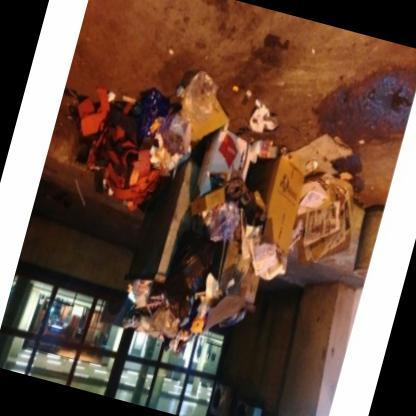Garbage: (60, 38, 236, 222), (266, 148, 376, 280), (121, 278, 248, 366), (233, 147, 315, 283), (185, 121, 267, 250)
